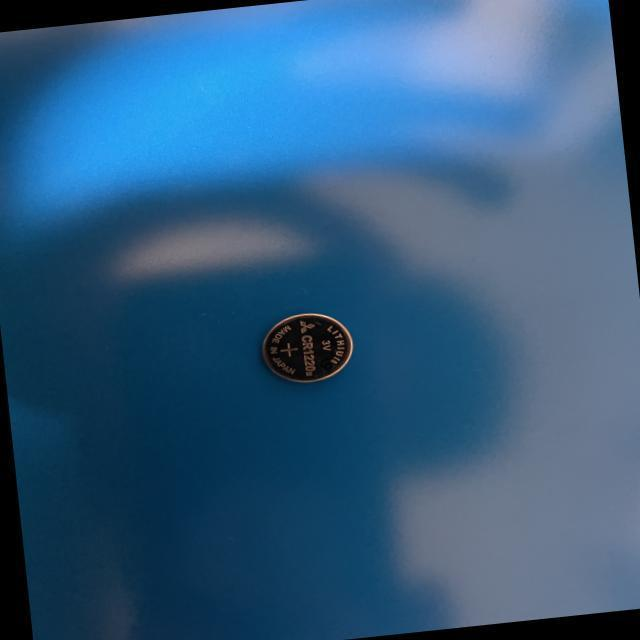COIN: (256, 309, 354, 385)
